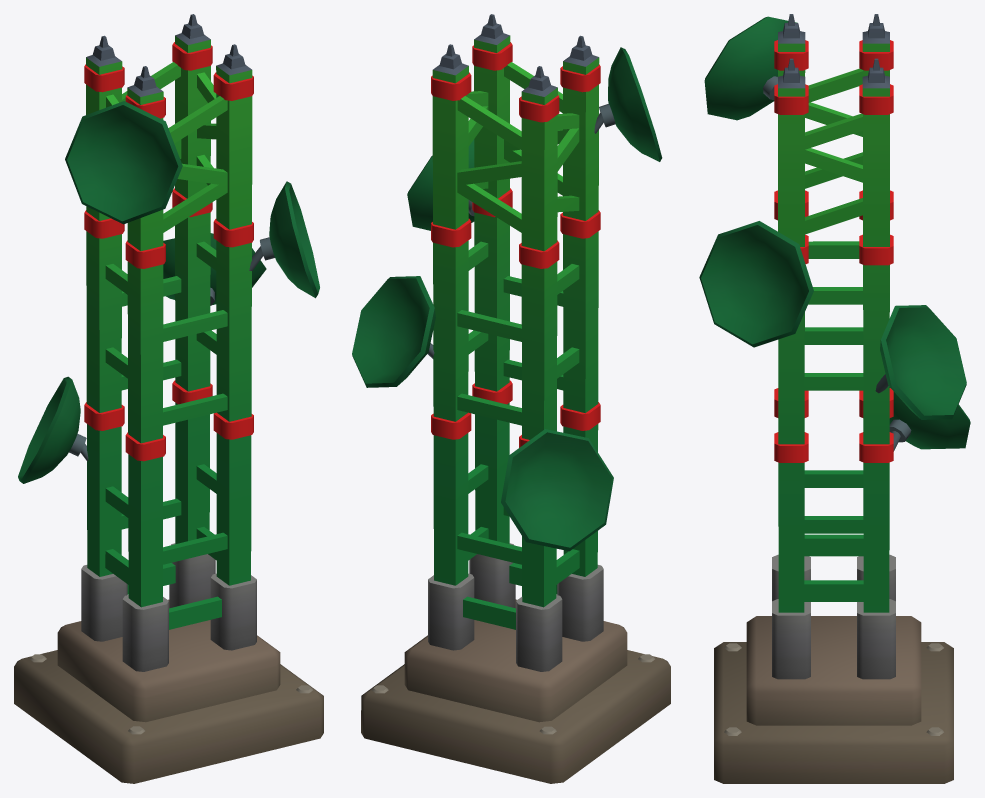
Rendered from SignalTower_1_D.fbx.
The picture shows the model from 3 angles, left to right: view 1: azimuth 30°, elevation 25°; view 2: azimuth 150°, elevation 25°; view 3: azimuth 270°, elevation 25°; orthographic projection. The views are drawn at different scales.
Visible parts, largest first — view 1: SignalTower_1_D; view 2: SignalTower_1_D; view 3: SignalTower_1_D.
Boxes of the visible parts, x1,y1,x2,y2 form: SignalTower_1_D: (14, 14, 323, 783); SignalTower_1_D: (352, 14, 670, 783); SignalTower_1_D: (699, 14, 970, 783).
Size of the model in its own units: 118 by 309 by 109.
